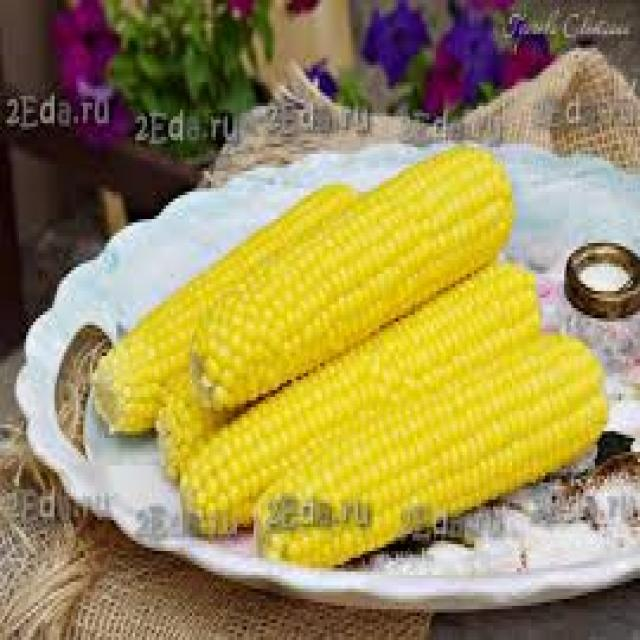corn: (164, 251, 541, 541), (187, 132, 518, 414), (254, 334, 614, 580), (83, 178, 380, 454)
